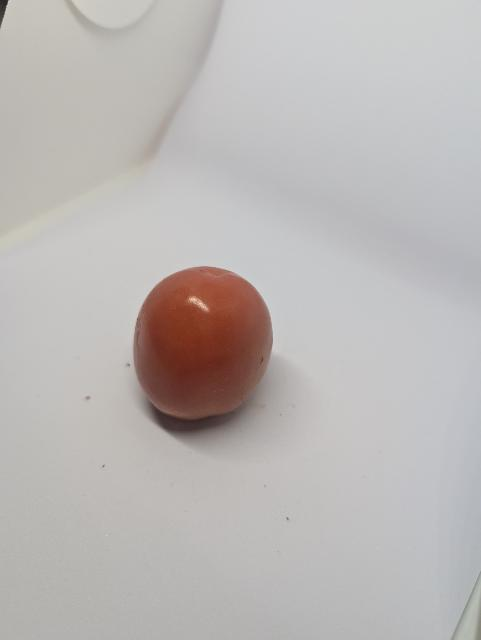red: (131, 266, 276, 428)
